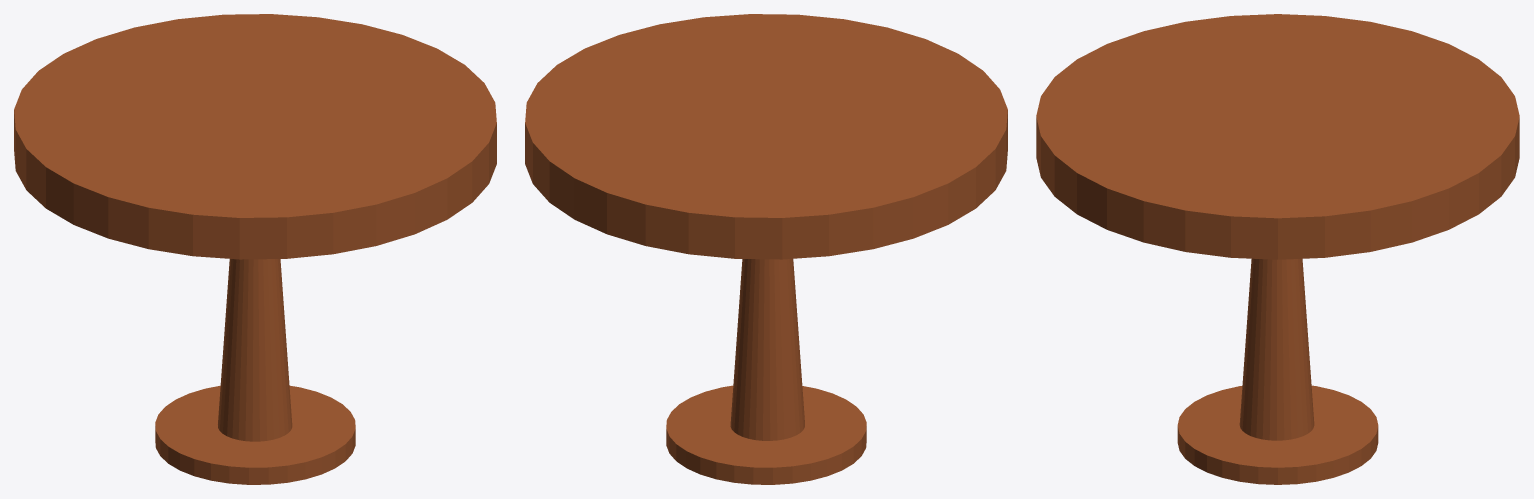
Rendered from STOLAICZEK.fbx.
The picture shows the model from 3 angles, left to right: view 1: azimuth 30°, elevation 25°; view 2: azimuth 150°, elevation 25°; view 3: azimuth 270°, elevation 25°; orthographic projection.
Parts seen in each view (by area): view 1: Cylinder; view 2: Cylinder; view 3: Cylinder.
Part boxes in pixels (x1=…): Cylinder: x1=14, y1=14, x2=496, y2=484; Cylinder: x1=525, y1=14, x2=1007, y2=484; Cylinder: x1=1036, y1=14, x2=1519, y2=484.
Bounding box in the file's own units: 200 × 149 × 200.
